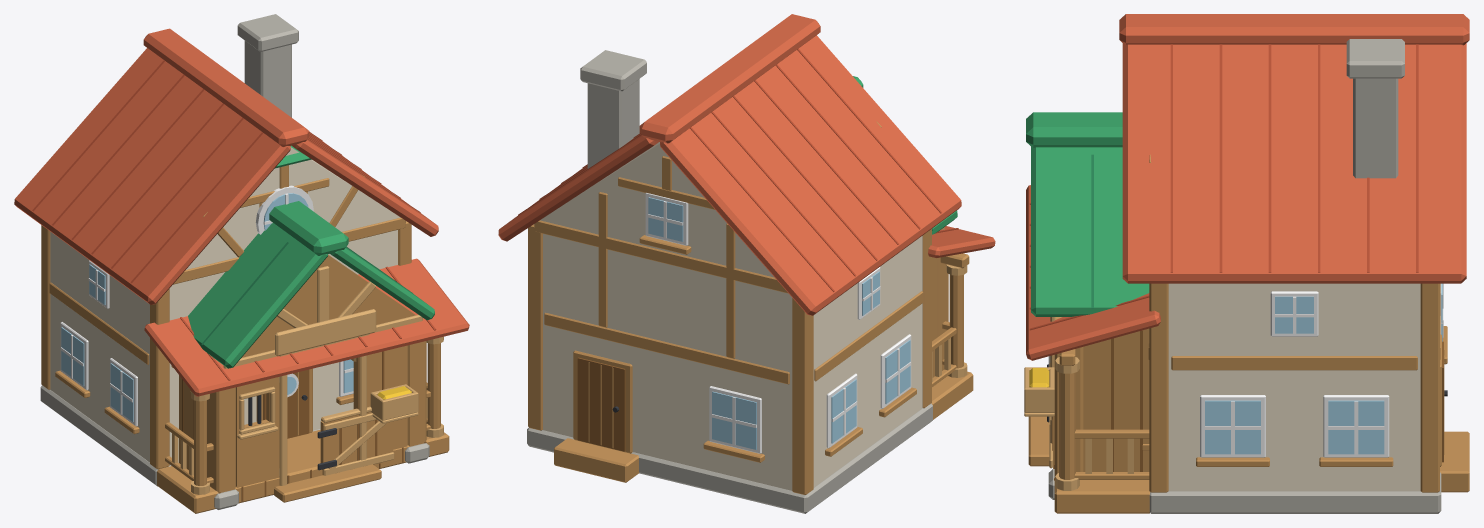
File: Buildings.glb
3 renders of one model, left to right at view 1: azimuth 30°, elevation 25°; view 2: azimuth 150°, elevation 25°; view 3: azimuth 270°, elevation 25°, orthographic. The views are drawn at different scales.
Visible parts, largest first — view 1: HOUSE, HUT, GATE, TOP; view 2: HOUSE, HUT; view 3: HOUSE, HUT.
Boxes of the visible parts, bbox=[...] form: HOUSE: bbox=[14, 14, 469, 513]; HUT: bbox=[179, 201, 434, 509]; GATE: bbox=[317, 406, 394, 475]; TOP: bbox=[259, 145, 376, 356]; HOUSE: bbox=[498, 14, 995, 513]; HUT: bbox=[853, 76, 957, 377]; HOUSE: bbox=[1026, 14, 1469, 513]; HUT: bbox=[1024, 112, 1149, 499].
Bounding box in the file's own units: 6.47 × 7.35 × 6.87.
